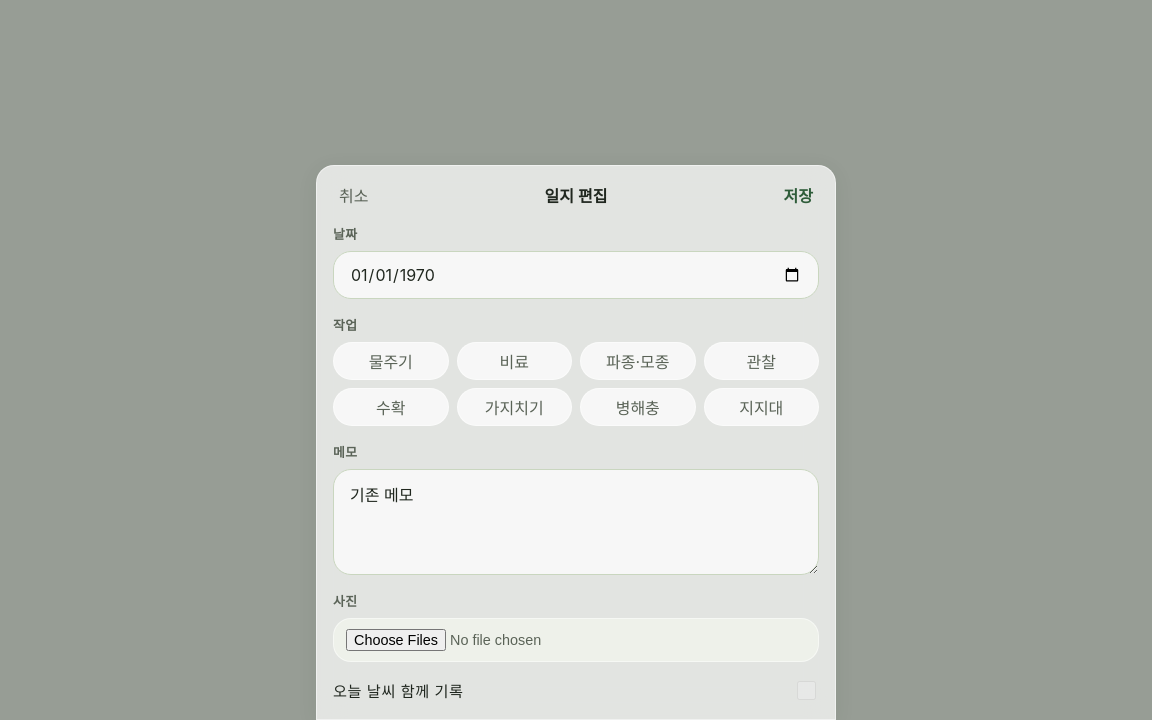
Test: JournalEntrySheet › 편집 모드에서 메모를 지우고 태그·사진도 없으면 저장 비활성
Expected: the button "저장" is enabled, top-left (778, 182), bottom-right (819, 208)
Clear the text box labelled "메모" at point(576, 522), box top-left (333, 469), bottom-right (819, 575)
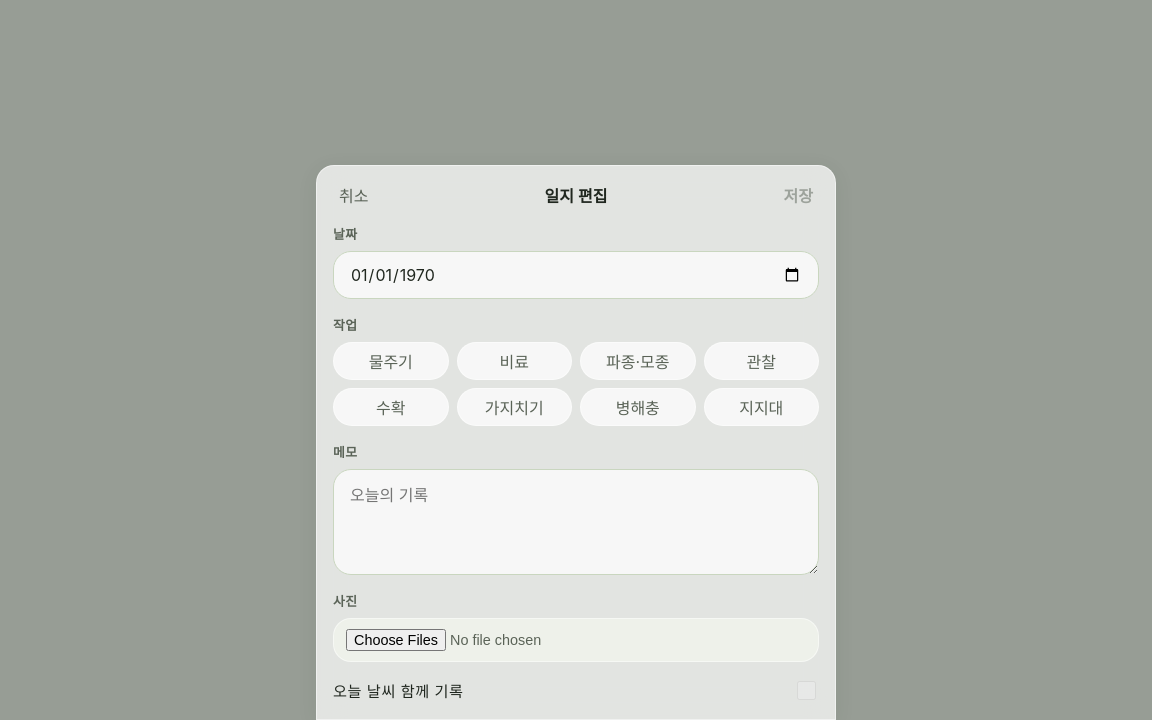
Now the button "저장" is disabled, box top-left (778, 182), bottom-right (819, 208)
